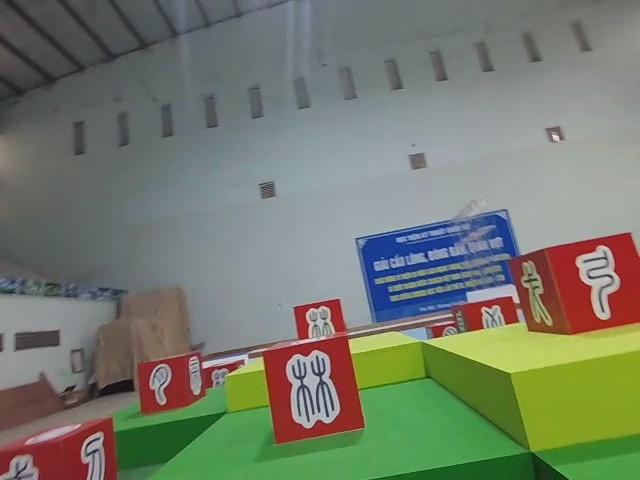R2 Fake: (503, 229, 640, 337), (260, 330, 368, 447), (0, 412, 121, 480), (134, 348, 208, 418), (291, 296, 351, 345)
